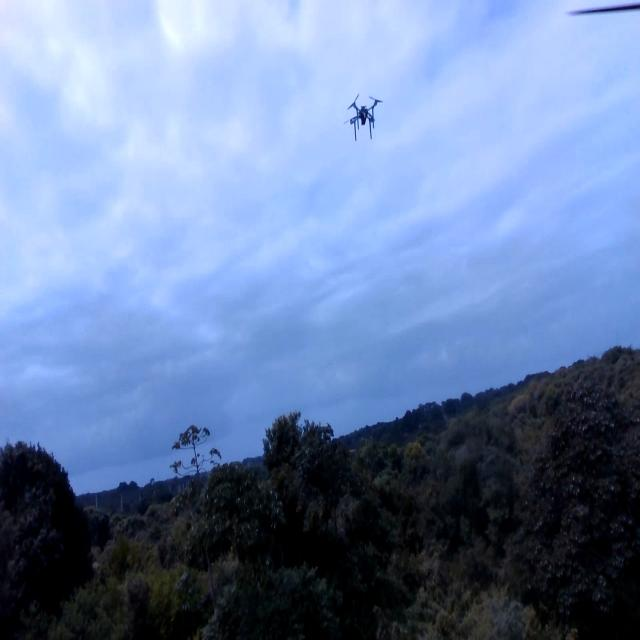-uav-: (341, 83, 386, 156)
